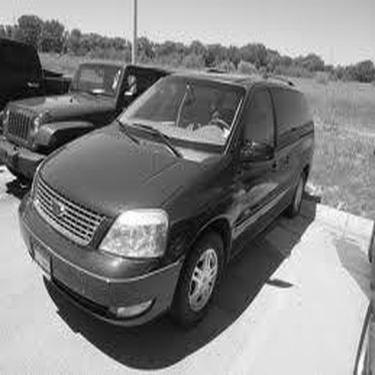car: (23, 63, 315, 311), (11, 37, 190, 186)
